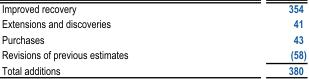table: (0, 1, 305, 76)
table column: (0, 1, 207, 76), (207, 1, 305, 76)
table row: (0, 15, 305, 31), (0, 46, 305, 62), (0, 31, 305, 46), (0, 1, 305, 15), (0, 62, 305, 76)
